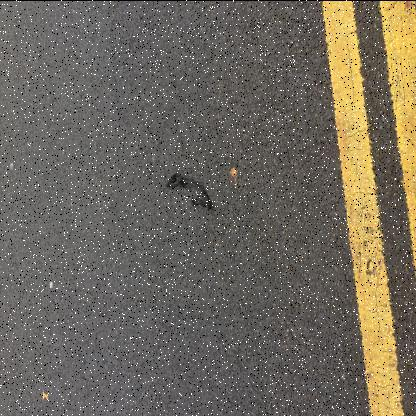other: (166, 171, 212, 209)
